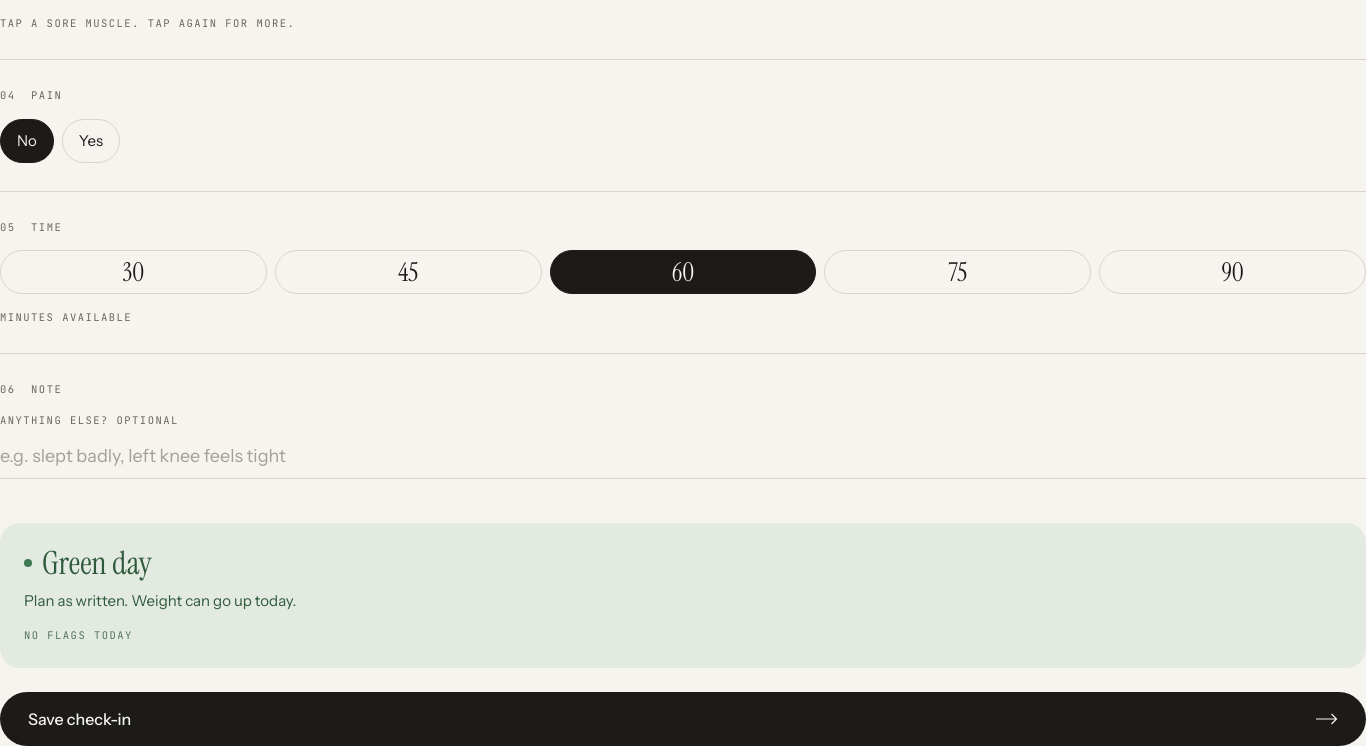
check-in screen › saving sends today's local date and then shows the saved result
(page scrolled)
Click the button "Save check-in" at (80, 719), box [0, 692, 1365, 745]
(page scrolled)
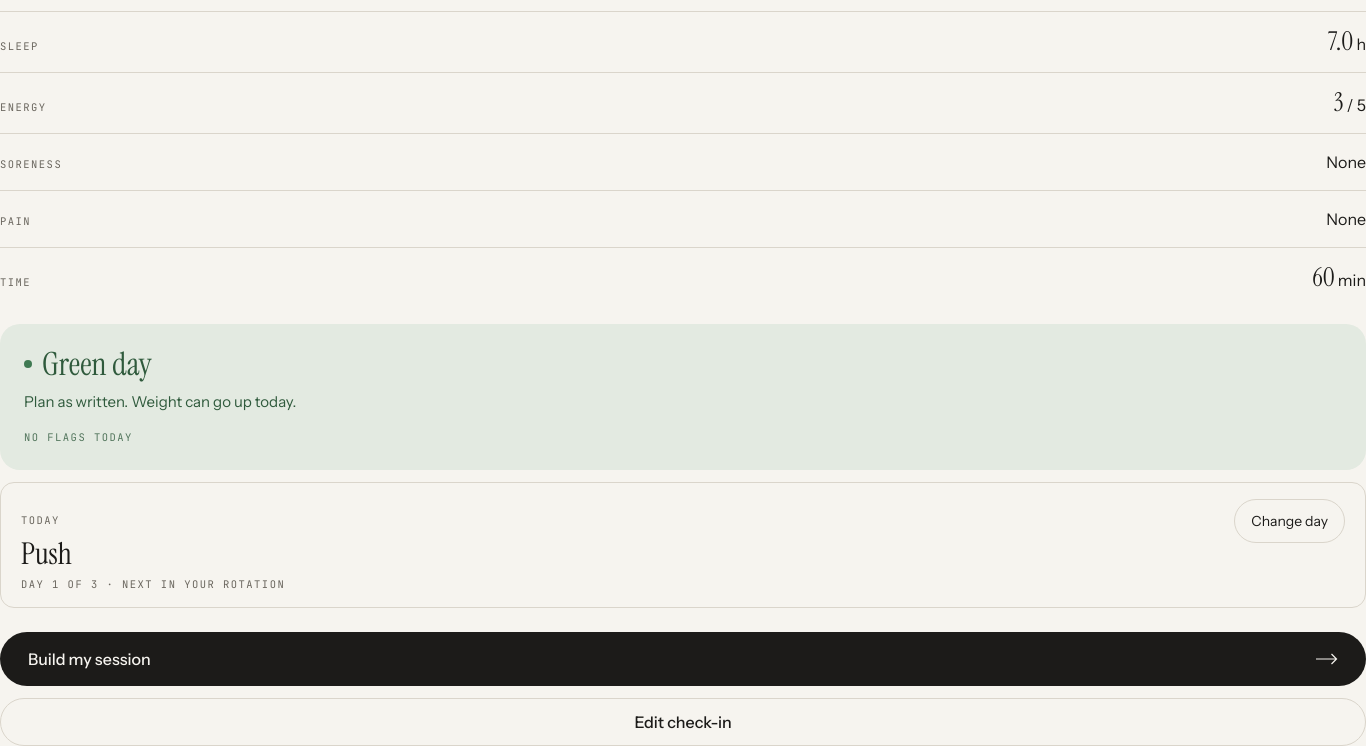
Expected: the button "Edit check-in" is shown, [0, 698, 1365, 745]
